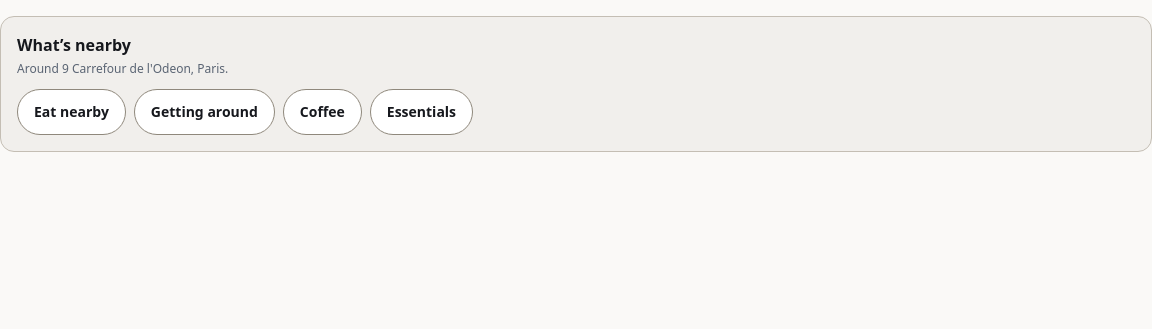
Test: the remaining count › speaks up once it is nearly gone
Click the button "Eat nearby" at (71, 112), box [17,89,126,135]
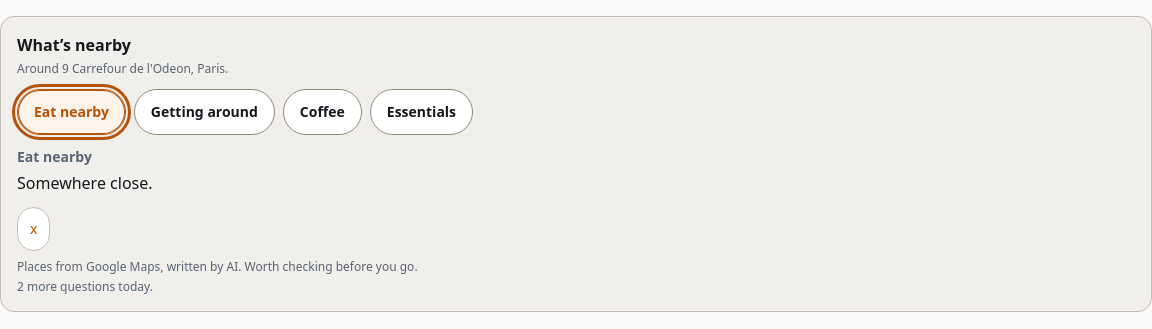
Expected: the text "2 more questions today." is shown, [17,278,153,295]
